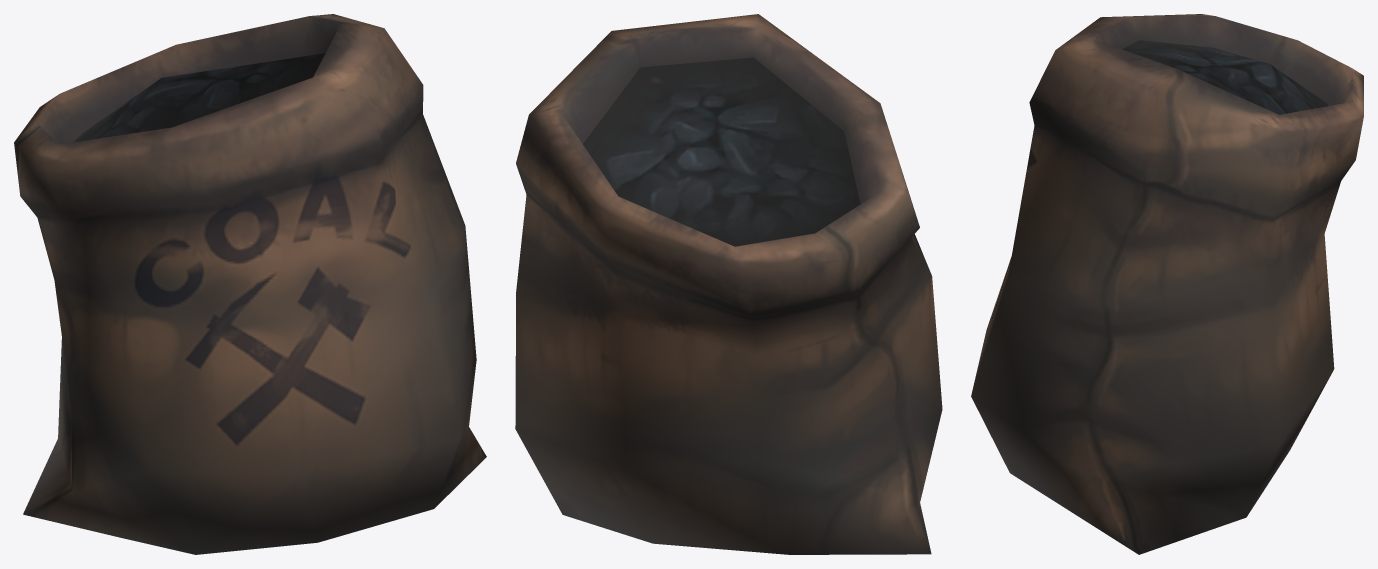
File: sack_of_coal_large3.fbx
3 renders of one model, left to right at view 1: azimuth 30°, elevation 25°; view 2: azimuth 150°, elevation 25°; view 3: azimuth 270°, elevation 25°, orthographic. The views are drawn at different scales.
Parts seen in each view (by area): view 1: sack_of_coal_large3; view 2: sack_of_coal_large3; view 3: sack_of_coal_large3.
Part boxes in pixels (x1,y1,x2,y2): sack_of_coal_large3: (14, 14, 486, 554); sack_of_coal_large3: (515, 14, 942, 554); sack_of_coal_large3: (971, 14, 1363, 554).
Size of the model in its own units: 94.01 by 94.69 by 78.04.
